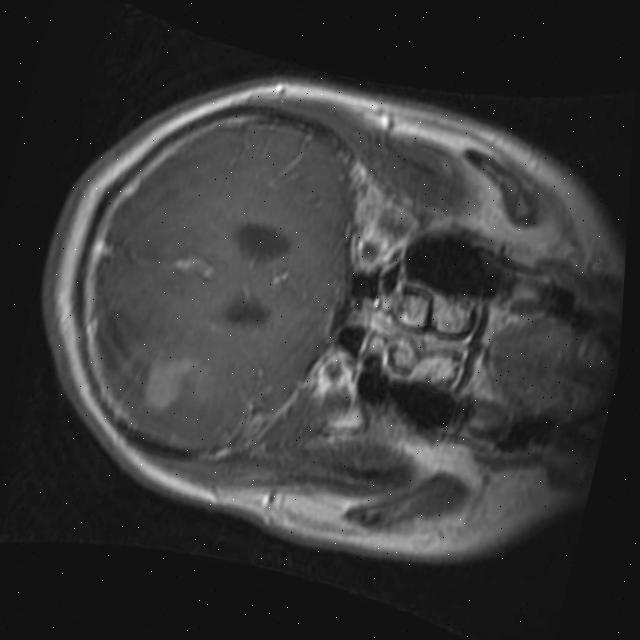Glioma: (136, 347, 205, 417)
